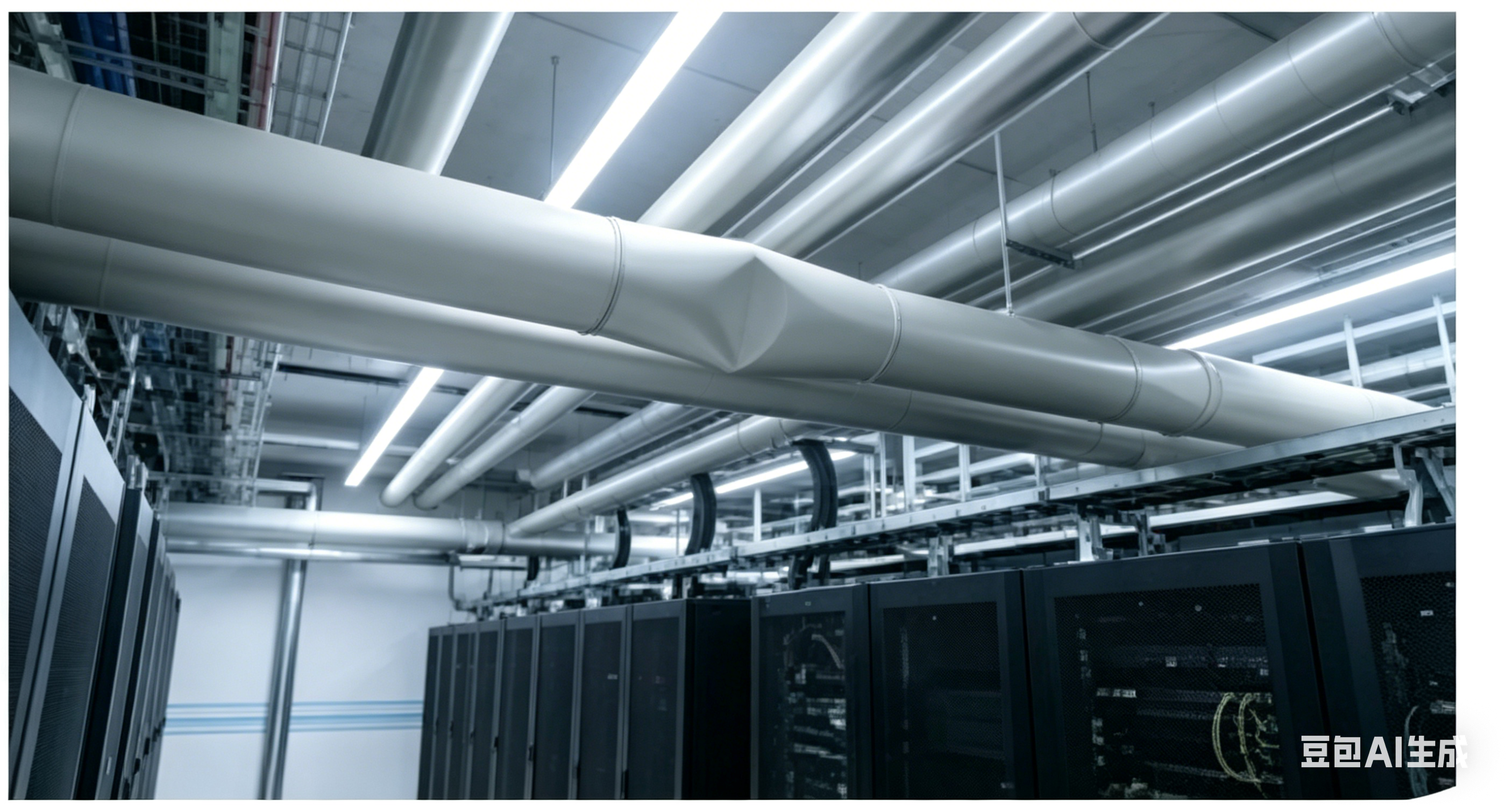Leakage: (699, 241, 820, 377)
